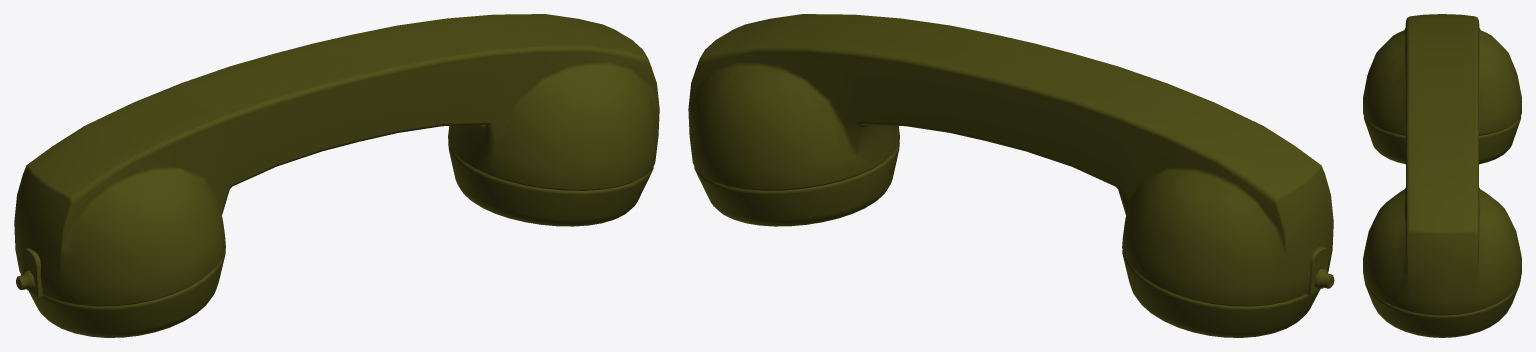
Rendered from SM_Payphone_Handset.fbx.
3 views of the same model, side by side, from view 1: azimuth 30°, elevation 25°; view 2: azimuth 150°, elevation 25°; view 3: azimuth 270°, elevation 25° (orthographic). The views are drawn at different scales.
Visible parts, largest first — view 1: PhoneHandset; view 2: PhoneHandset; view 3: PhoneHandset.
Part boxes in pixels (x1,y1,x2,y2): PhoneHandset: [14, 14, 659, 337]; PhoneHandset: [688, 14, 1334, 337]; PhoneHandset: [1363, 14, 1521, 337].
Size of the model in its own units: 28.41 by 8.53 by 8.2.
